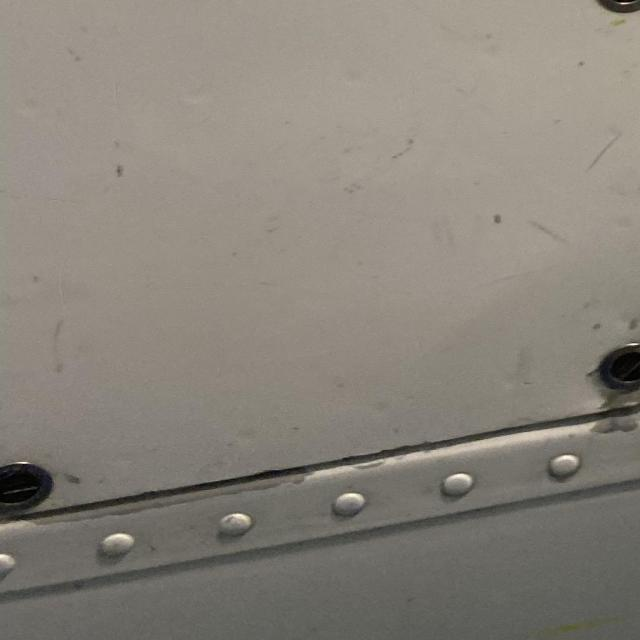Paint-off: (590, 417, 640, 437)
